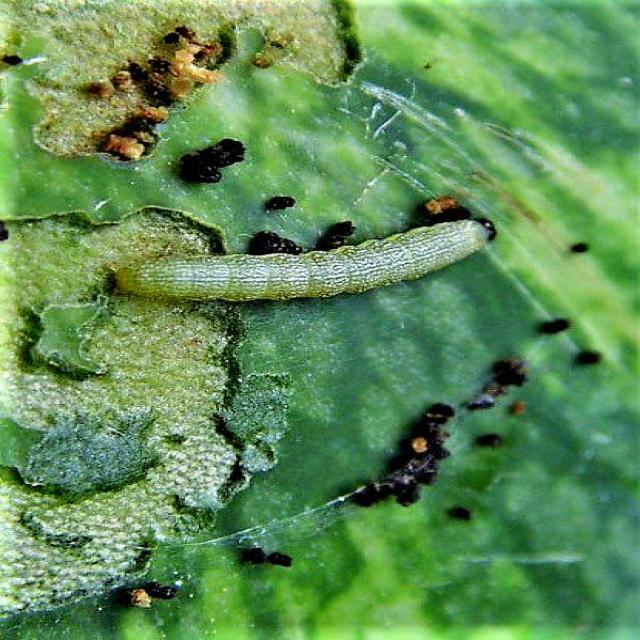Armyworm: (96, 224, 506, 334)
